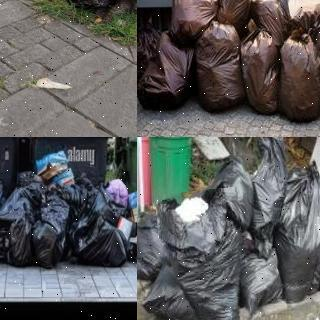Garbage: (158, 189, 249, 320), (274, 162, 320, 303), (242, 137, 292, 258), (191, 19, 249, 113), (230, 229, 292, 312), (137, 27, 193, 112), (273, 28, 320, 123), (239, 24, 287, 114), (201, 152, 257, 229), (142, 257, 199, 320), (137, 197, 176, 281), (65, 215, 125, 266), (168, 0, 216, 41), (30, 213, 65, 269), (284, 0, 320, 30), (214, 0, 254, 23), (61, 0, 117, 14)
